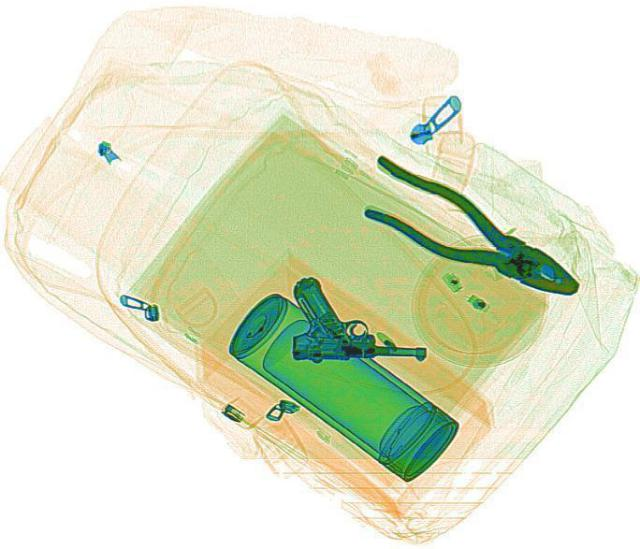Gun: (288, 274, 428, 362)
Pliers: (335, 150, 595, 315)
